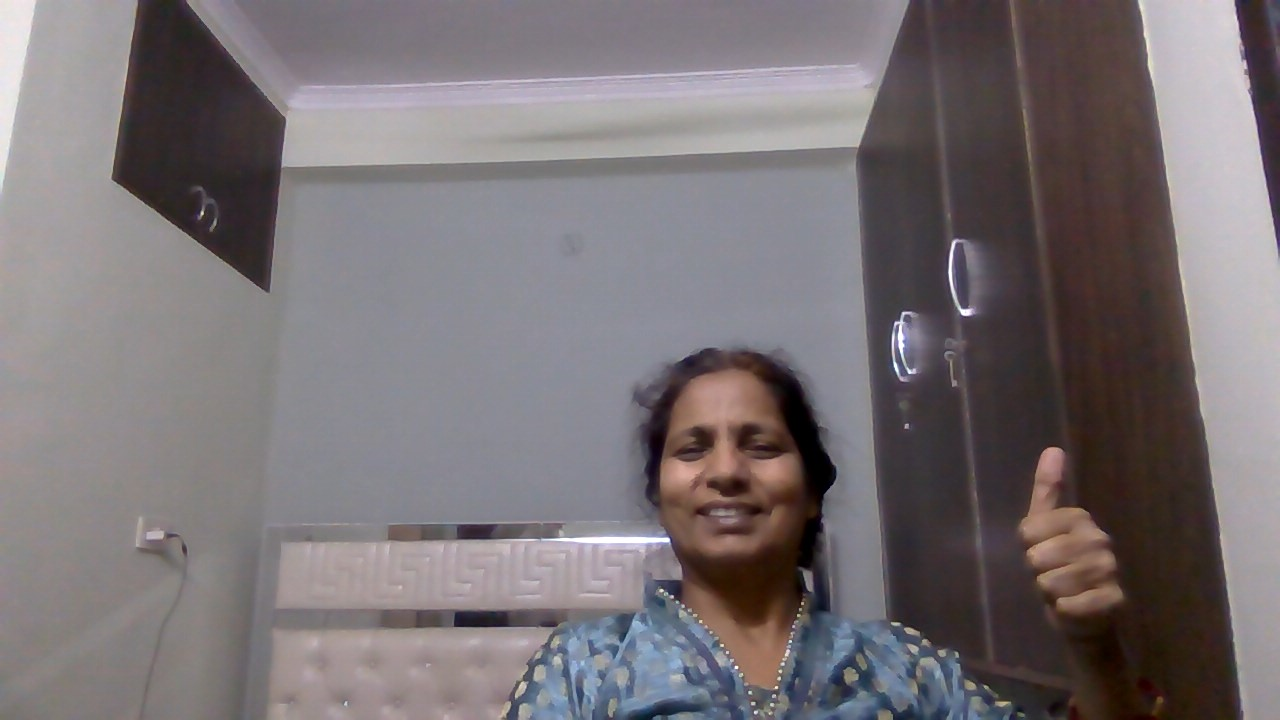Save: (1006, 442, 1159, 657)
